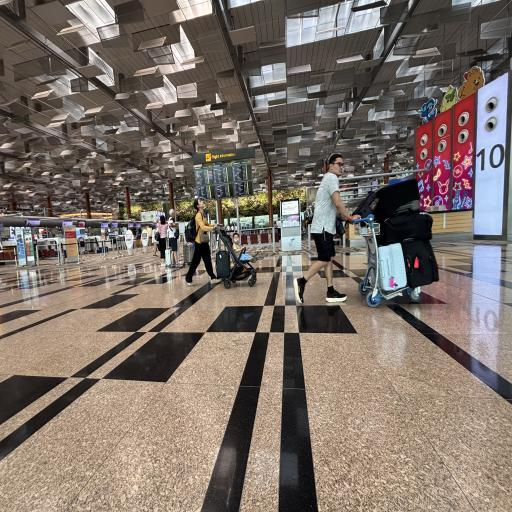person_with_luggage_right: (294, 154, 438, 307)
